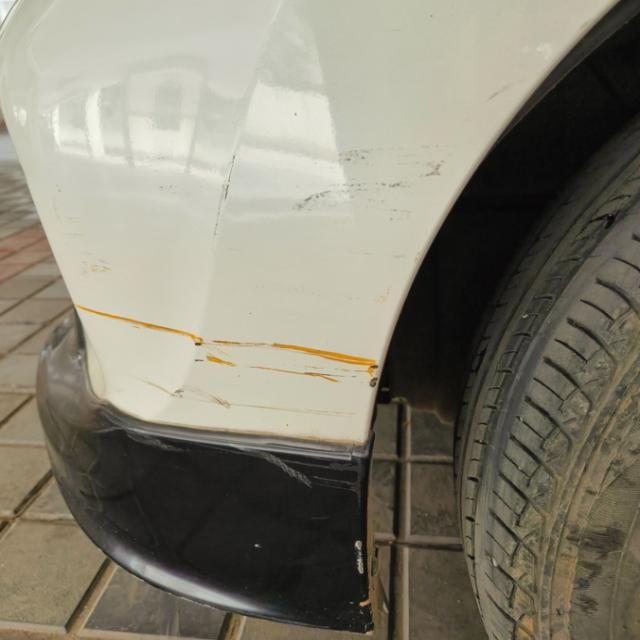scratch: (207, 112, 453, 259), (152, 319, 390, 428), (28, 176, 118, 281), (464, 58, 564, 101)
